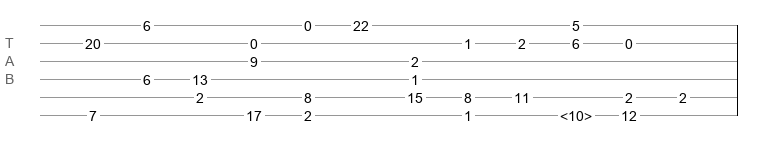0: (250, 36, 258, 46), (304, 18, 312, 28), (625, 36, 633, 46)
1: (411, 72, 419, 82), (464, 108, 472, 118), (464, 36, 472, 46)
11: (514, 90, 530, 100)
12: (621, 108, 637, 118)
13: (192, 72, 208, 82)
15: (407, 90, 423, 100)
17: (246, 108, 262, 118)
2: (196, 90, 204, 100), (304, 108, 312, 118), (411, 54, 419, 64), (518, 36, 526, 46), (625, 90, 633, 100), (679, 90, 687, 100)
20: (85, 36, 101, 46)
22: (353, 18, 369, 28)
5: (572, 18, 580, 28)
6: (143, 72, 151, 82), (143, 18, 151, 28), (572, 36, 580, 46)
7: (89, 108, 97, 118)
8: (304, 90, 312, 100), (464, 90, 472, 100)
9: (250, 54, 258, 64)
harmonic: (560, 108, 592, 118)
